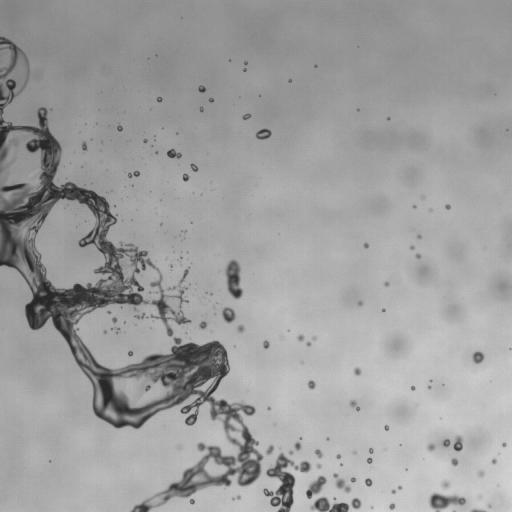droplet: (263, 453, 311, 511), (305, 475, 326, 498), (222, 307, 235, 323), (256, 128, 271, 139), (453, 435, 463, 451), (472, 351, 483, 363), (167, 149, 181, 158), (441, 480, 449, 489), (199, 321, 207, 329), (353, 367, 361, 375), (308, 380, 315, 389), (443, 438, 450, 447), (294, 441, 301, 450), (266, 445, 273, 454), (315, 449, 322, 458), (190, 163, 197, 171), (182, 173, 189, 181), (427, 443, 435, 450), (365, 478, 372, 486), (198, 85, 205, 92), (237, 325, 244, 332), (297, 334, 304, 341), (451, 458, 458, 465), (242, 113, 250, 119), (263, 340, 269, 348), (478, 470, 484, 477), (112, 327, 120, 332), (389, 503, 395, 509), (117, 124, 122, 131), (82, 142, 86, 150), (128, 350, 133, 356), (367, 457, 372, 463), (350, 477, 356, 482), (233, 495, 240, 499), (157, 97, 162, 102), (445, 204, 450, 209), (415, 253, 420, 258), (112, 317, 117, 322), (316, 463, 321, 468), (492, 458, 496, 464), (364, 243, 368, 248), (384, 282, 389, 286), (306, 342, 311, 346), (384, 425, 388, 430), (502, 442, 506, 447), (369, 448, 373, 453), (336, 454, 340, 459), (477, 494, 481, 499), (209, 98, 213, 102), (410, 245, 414, 249), (358, 301, 362, 305), (312, 336, 316, 340), (411, 386, 415, 390), (397, 486, 402, 489), (143, 139, 147, 142), (289, 450, 292, 454), (391, 490, 395, 493), (200, 107, 203, 110), (417, 235, 420, 238), (267, 407, 270, 410), (413, 205, 415, 208), (107, 311, 110, 313), (428, 386, 431, 388), (178, 446, 181, 448), (488, 505, 491, 507), (11, 159, 13, 161), (183, 230, 185, 232), (382, 309, 384, 311), (430, 379, 432, 381)
ligament: (0, 36, 263, 511), (310, 496, 361, 511), (225, 259, 243, 299), (428, 492, 465, 511), (333, 473, 351, 492), (350, 400, 359, 410), (128, 171, 139, 178), (135, 313, 146, 319), (470, 508, 486, 511)
